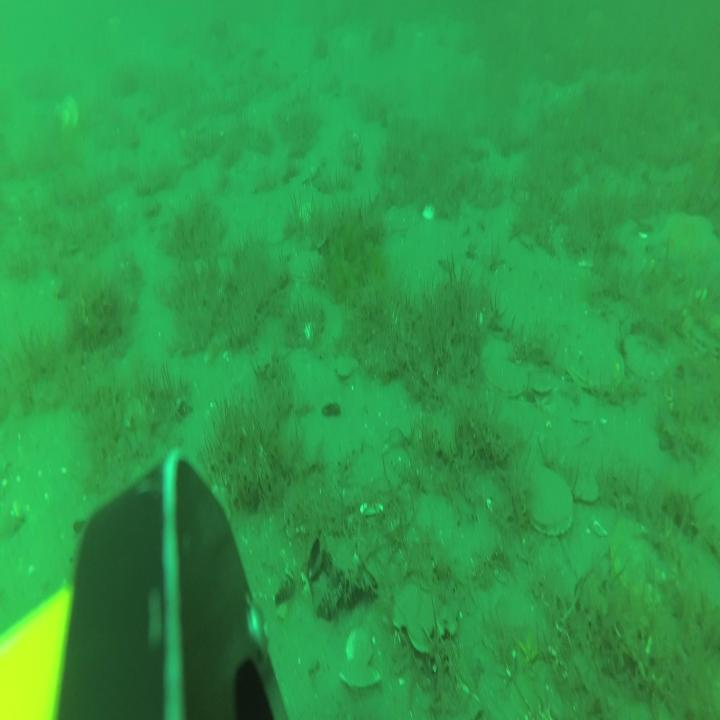scallop: (612, 514, 662, 595), (524, 465, 572, 537), (568, 332, 624, 391), (480, 340, 527, 396), (340, 626, 380, 690), (625, 336, 669, 382), (684, 313, 720, 354), (291, 248, 323, 284), (384, 203, 415, 237), (54, 95, 79, 133), (575, 472, 598, 502), (335, 352, 357, 380), (533, 374, 552, 396)
starfish: (647, 209, 720, 278)
